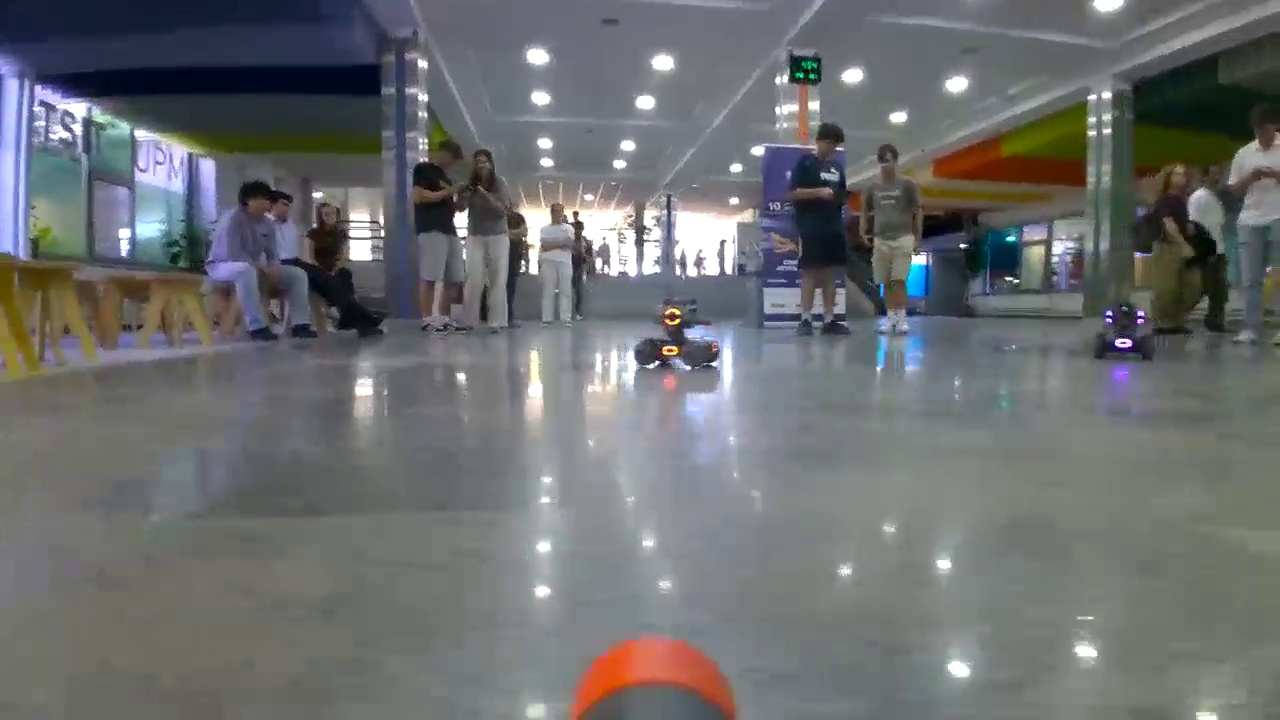robot: (634, 299, 720, 366), (1094, 302, 1154, 361)
